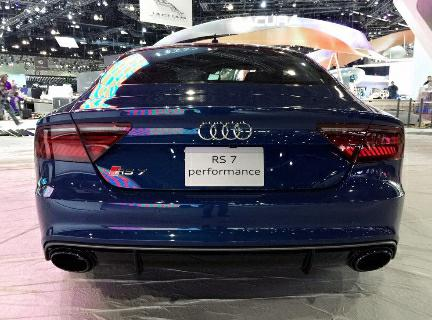奥迪-RS7: (30, 28, 417, 274)
